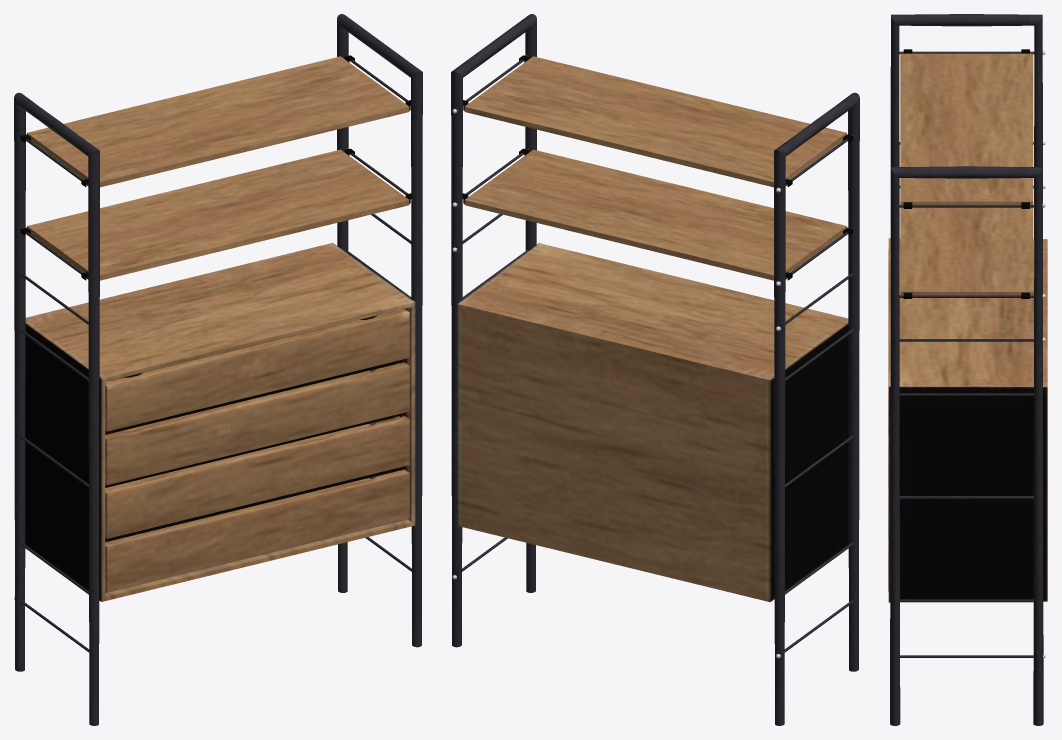
The model's file is ph_drawer_cabinet.glb.
3 views of the same model, side by side, from view 1: azimuth 30°, elevation 25°; view 2: azimuth 150°, elevation 25°; view 3: azimuth 270°, elevation 25° (orthographic). The views are drawn at different scales.
Parts seen in each view (by area): view 1: drawer_cabinet, drawer_cabinet_drawer_03, drawer_cabinet_drawer_02, drawer_cabinet_drawer_04, drawer_cabinet_drawer_01; view 2: drawer_cabinet; view 3: drawer_cabinet.
Part boxes in pixels (x1,y1,x2,y2): drawer_cabinet: (14, 14, 422, 725); drawer_cabinet_drawer_03: (105, 416, 409, 538); drawer_cabinet_drawer_02: (105, 362, 409, 485); drawer_cabinet_drawer_04: (105, 469, 409, 592); drawer_cabinet_drawer_01: (105, 309, 409, 431); drawer_cabinet: (451, 14, 859, 725); drawer_cabinet: (888, 14, 1047, 725).
Size of the model in its own units: 1.14 by 1.88 by 0.4881.
1 material, 1 textured.
